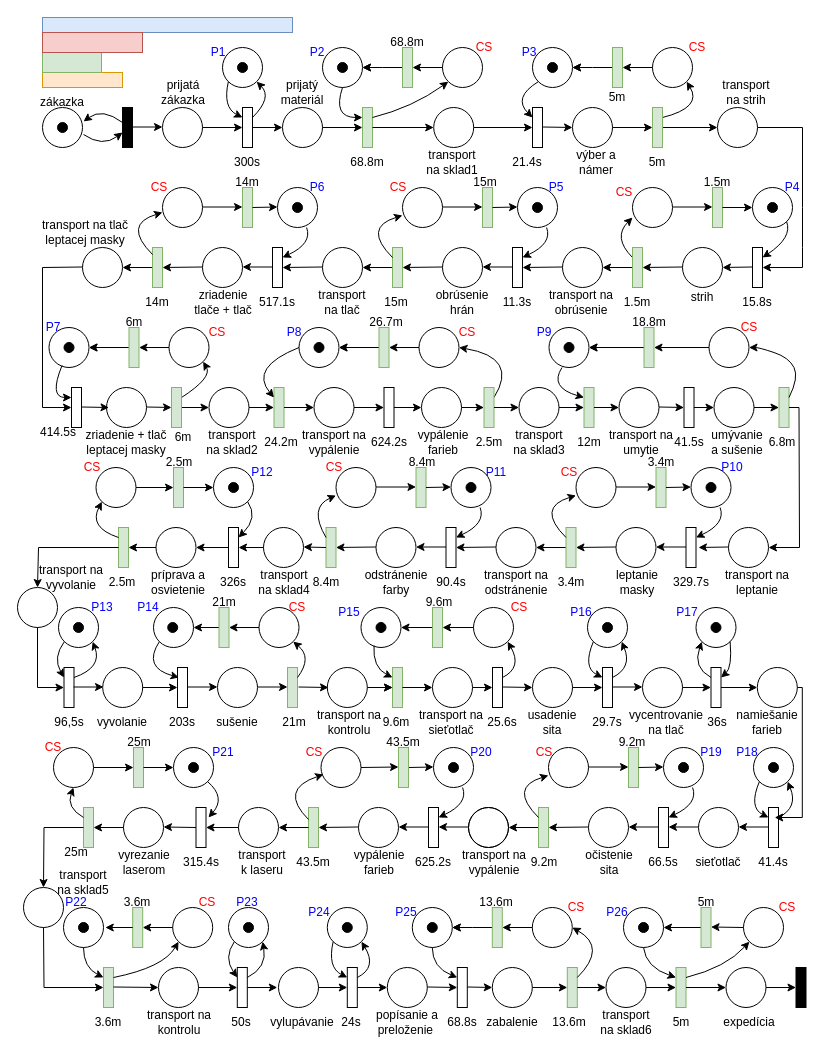
Some shapes in this 840 by 1055 pixel diagram are drawn without their labels. Here are the shapes that lost their labels. From the top down, the centre of each, then its label:
(92,42): CS = cesta späť
(167,24): P = pracovníci na jednotlivých stanoviskách
(72,62): m=meter
(82,80): s = sekunda
